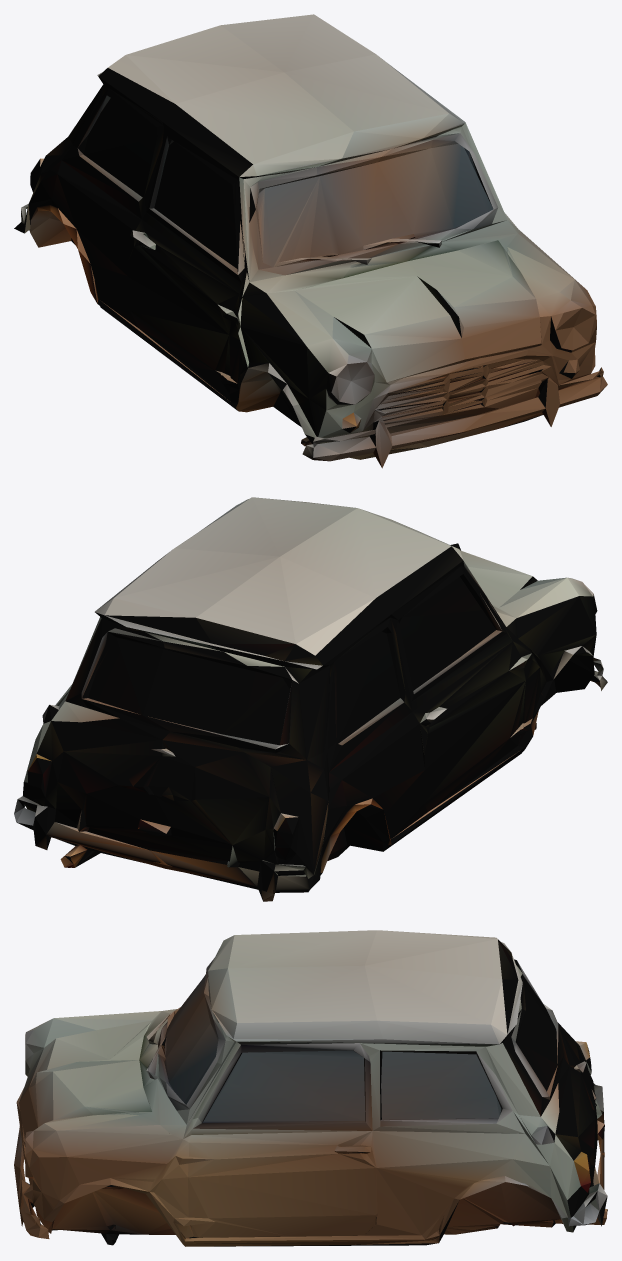
File: mini_cooper_1965.glb
The picture shows the model from 3 angles, top to bottom: view 1: azimuth 30°, elevation 25°; view 2: azimuth 150°, elevation 25°; view 3: azimuth 270°, elevation 25°; orthographic projection. The views are drawn at different scales.
Visible parts, largest first — view 1: Wreck_mini_cooper_1965; view 2: Wreck_mini_cooper_1965; view 3: Wreck_mini_cooper_1965.
Part boxes in pixels (x1=…): Wreck_mini_cooper_1965: x1=14, y1=14, x2=607, y2=468; Wreck_mini_cooper_1965: x1=14, y1=497, x2=607, y2=901; Wreck_mini_cooper_1965: x1=14, y1=930, x2=607, y2=1246.
Size of the model in its own units: 1.7 by 1.29 by 3.05.
